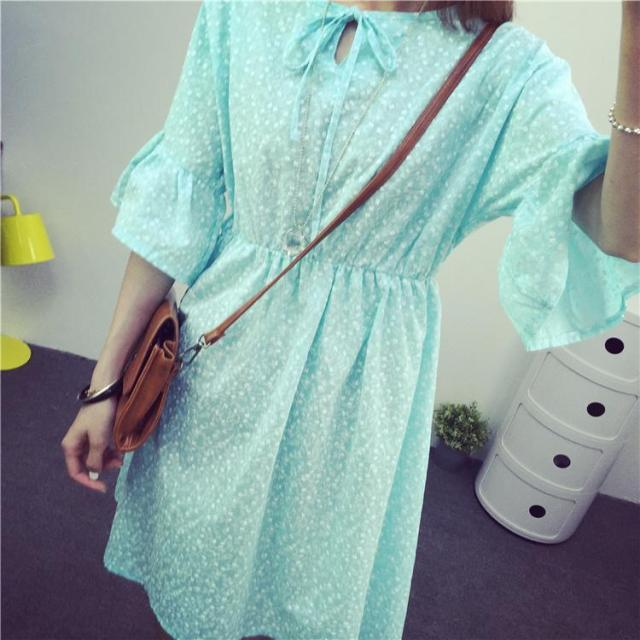short-sleeve-dress: (123, 3, 522, 629)
